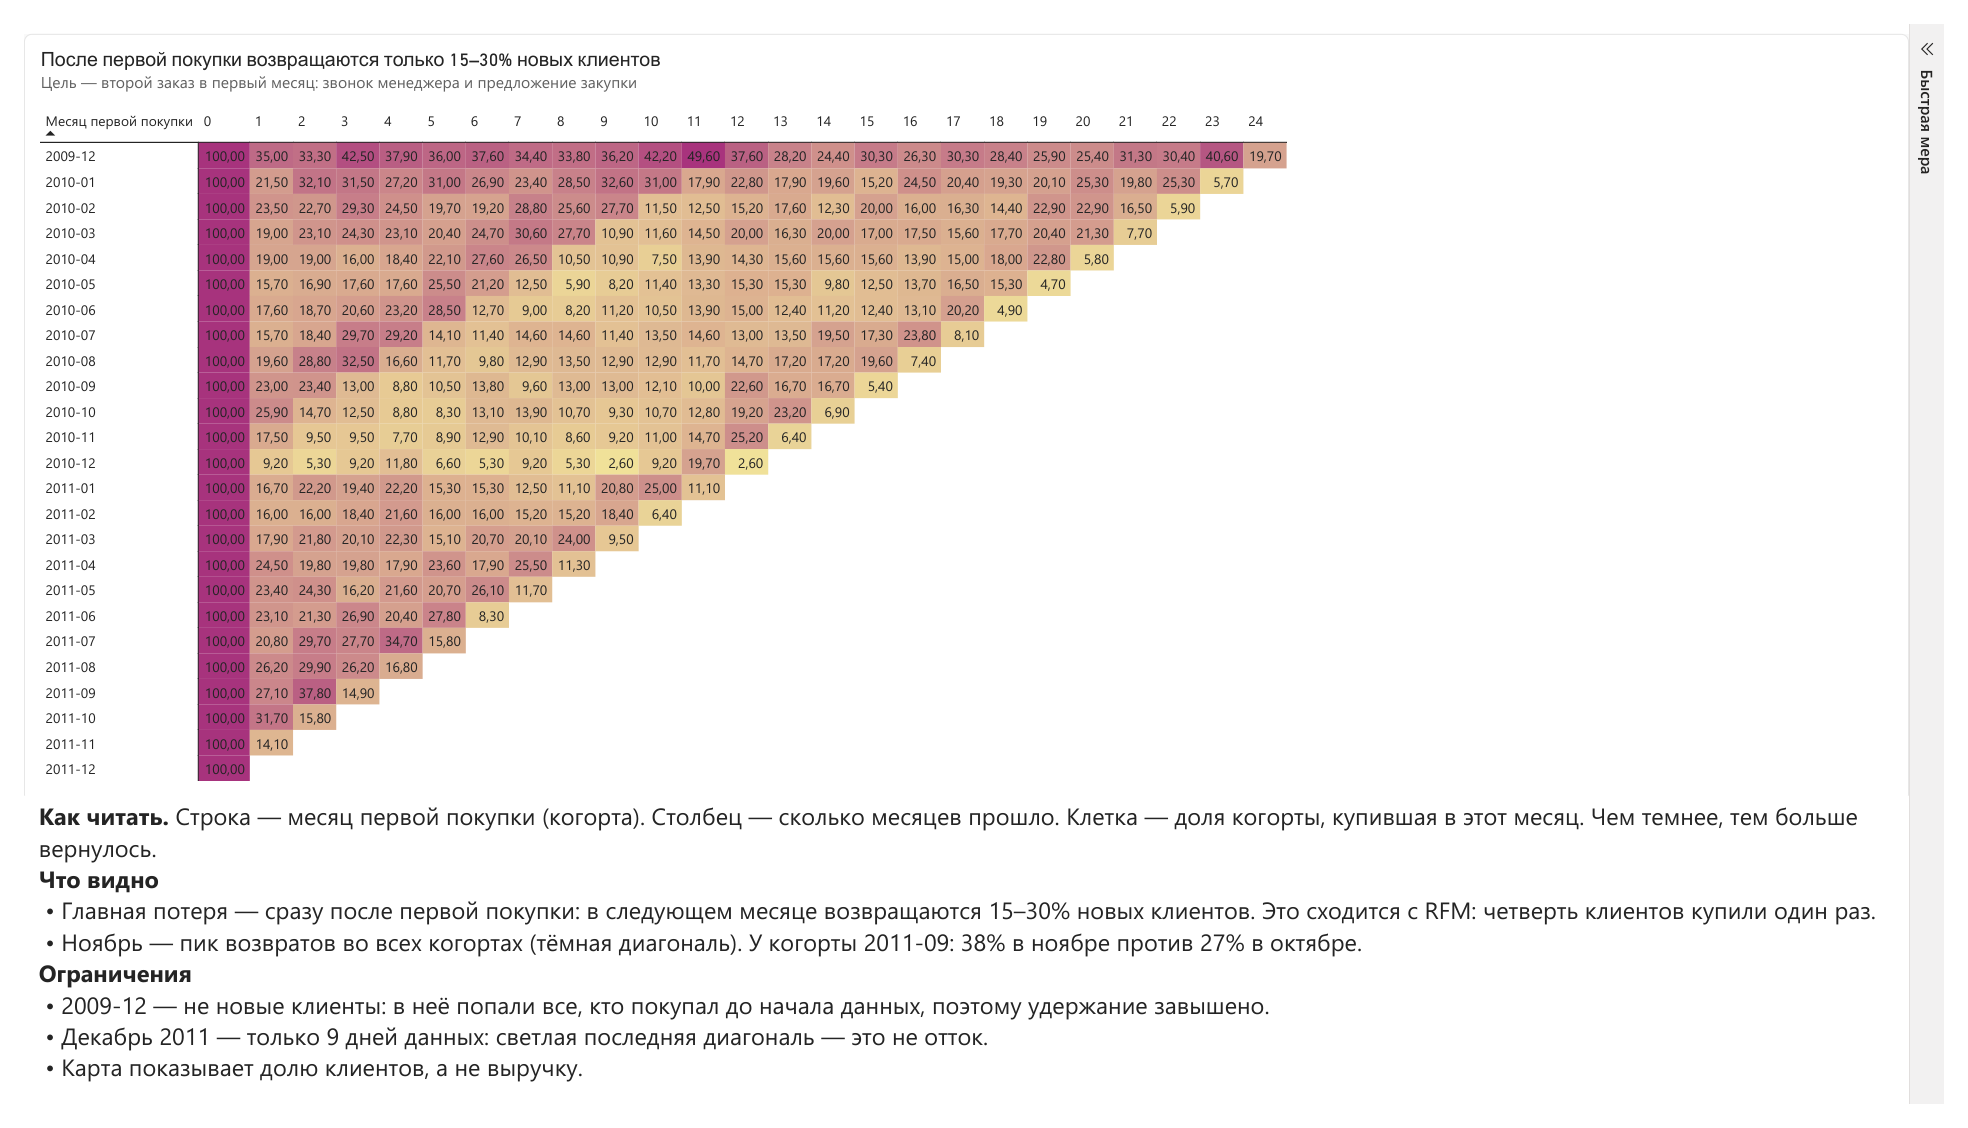

The dashboard page shown, as its layout file describes it:
{"tool":"powerbi","page":{"name":"Удержание клиентов","canvas":[1920,1080],"ordinal":1},"visuals":[{"type":"pivotTable","title":"После первой покупки возвращаются только 15–30% новых клиентов","fields":{"Columns":["retention_long.CohortIndex"],"Values":["Sum(retention_long.Retention)"],"Rows":["retention_long.CohortMonth"]},"box":[0,0,1920,783.3],"z":0},{"type":"textbox","box":[100,100,300,300],"z":2},{"type":"textbox","box":[0,776,1920,304],"z":3}]}

Visuals, with their boxes on the page's 1920x1080 design canvas (x1, y1, x2, y2). These are canvas units, not pixel positions in the 1968x1128 screenshot, which may show the page scaled, cropped or inside an application window:
"После первой покупки возвращаются только 15–30% новых клиентов" pivotTable: 0 0 1920 783
textbox: 100 100 400 400
textbox: 0 776 1920 1080
